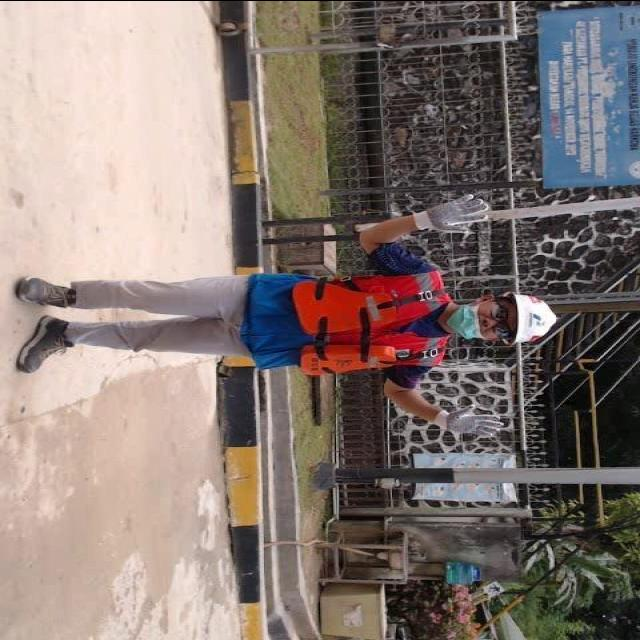helmet: (514, 286, 562, 348)
jacket: (297, 262, 459, 384)
